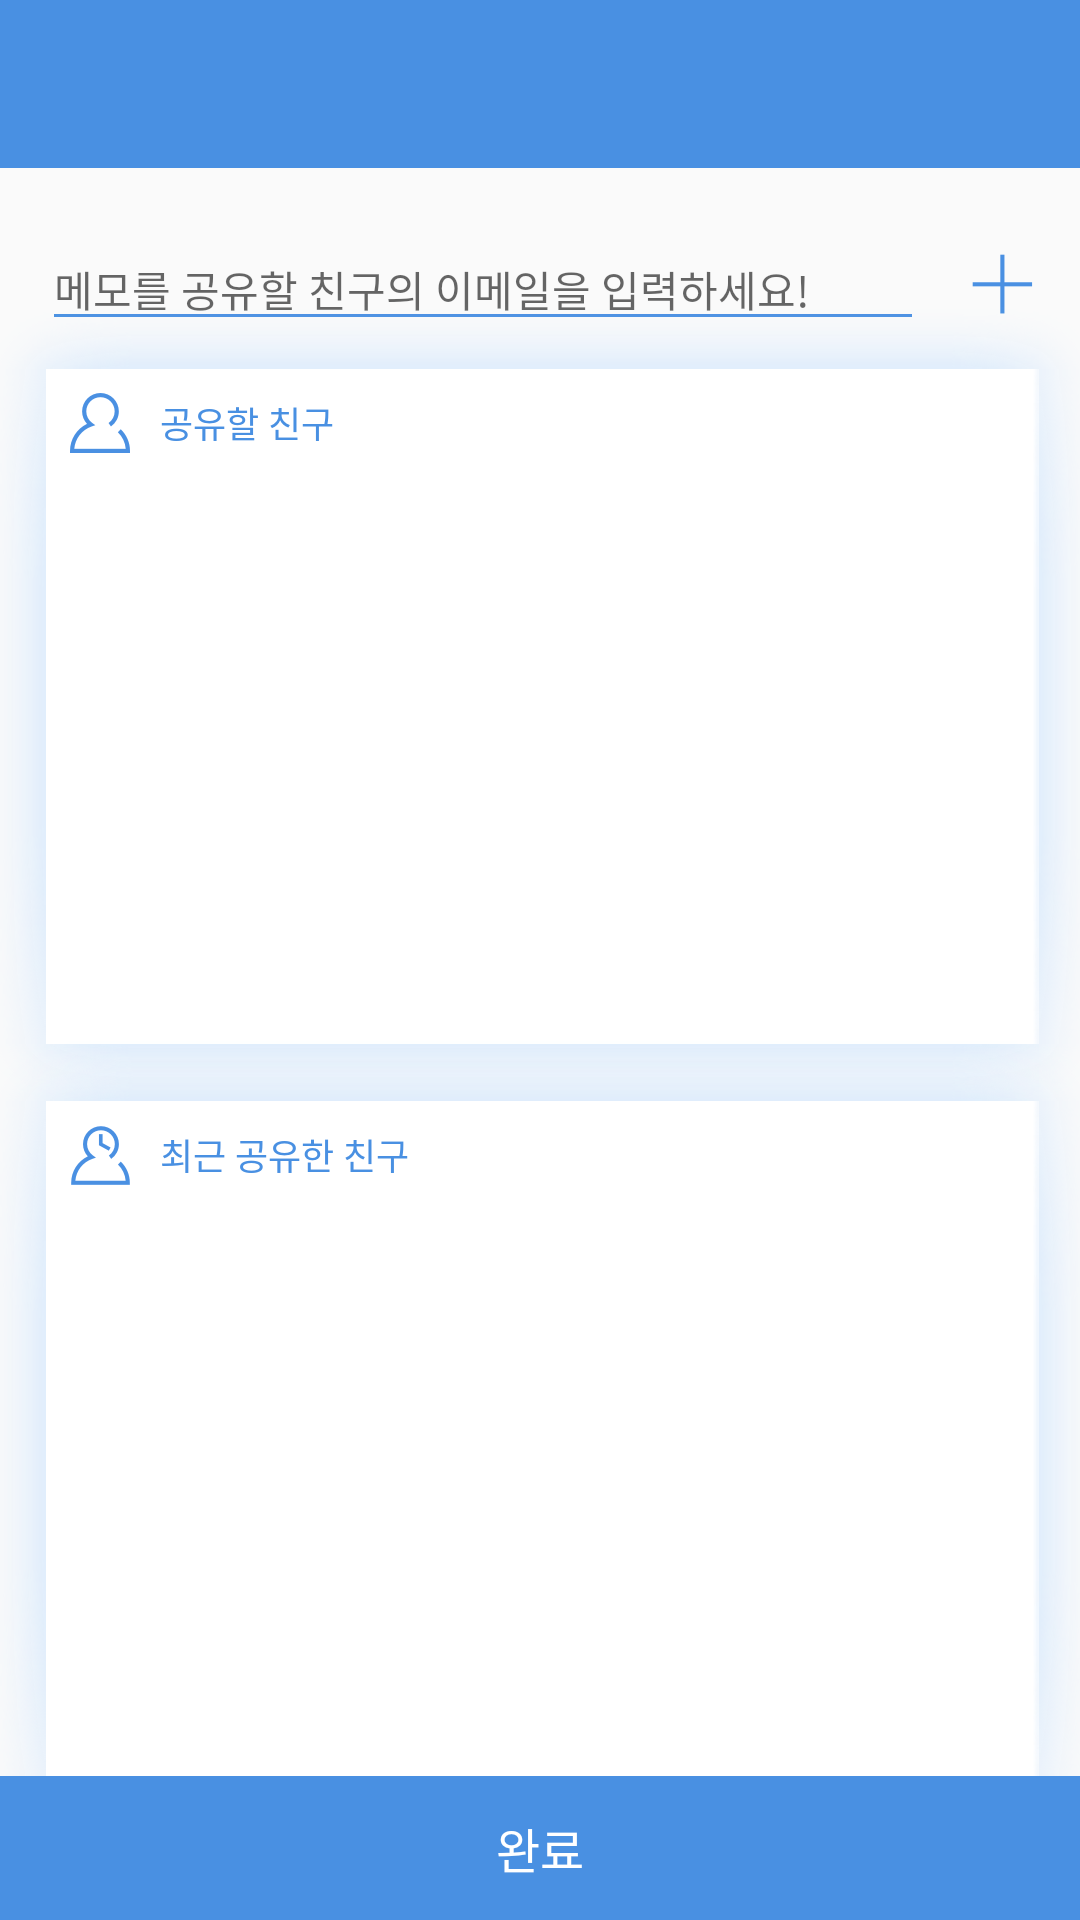

Icons on this 1080 x 1920 Android screen, each with the point to tap as point (x, y):
plus: point (1002, 284)
recent share: point (100, 1155)
share friend: point (100, 423)
